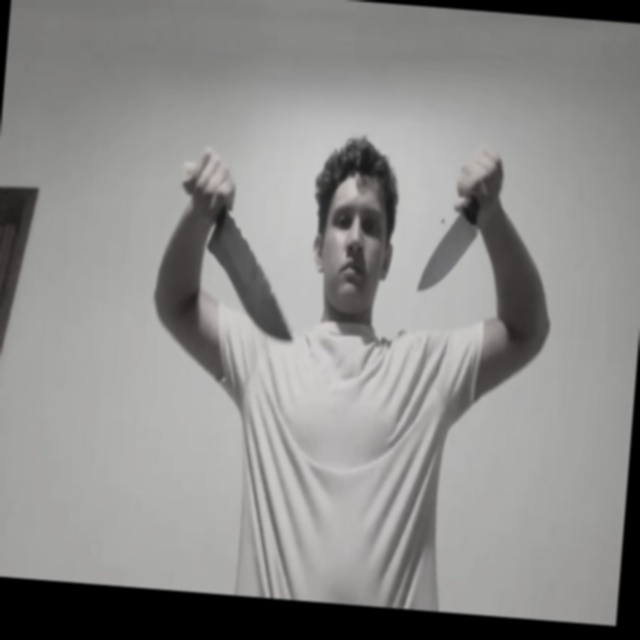Sharp-Object: (200, 210, 301, 341), (418, 209, 478, 292)
